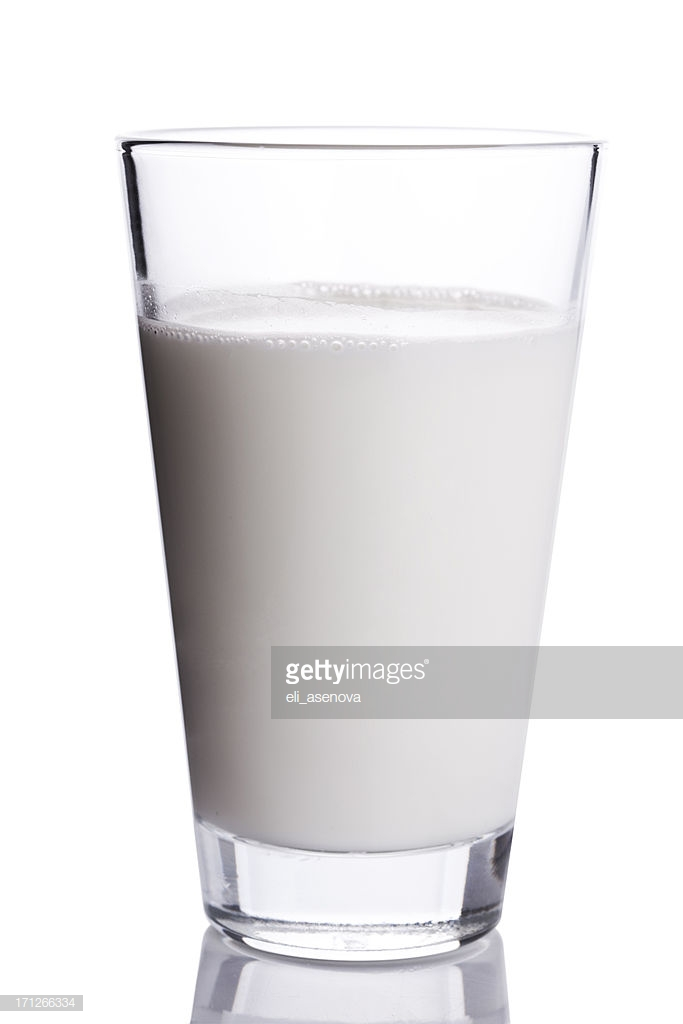glass of milk: (149, 135, 561, 635)
